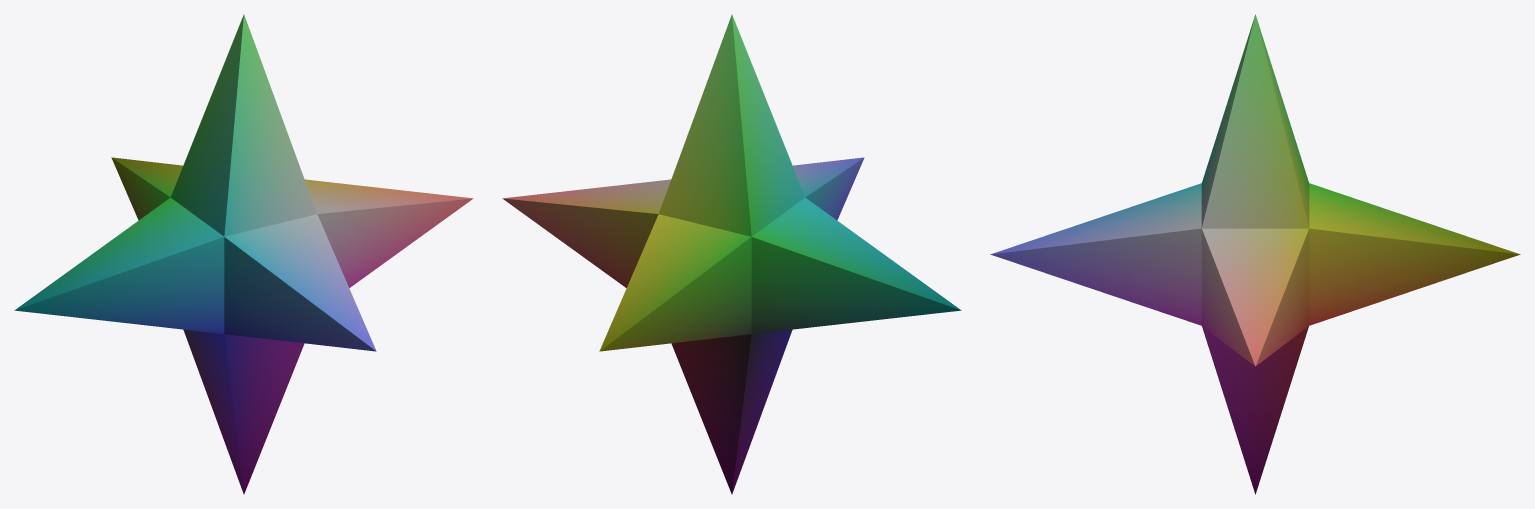
File: zeometry-stars-spikes-six-point-star_v1.glb
The picture shows the model from 3 angles, left to right: view 1: azimuth 30°, elevation 25°; view 2: azimuth 150°, elevation 25°; view 3: azimuth 270°, elevation 25°; orthographic projection.
Parts seen in each view (by area): view 1: Six-Point Star_v1; view 2: Six-Point Star_v1; view 3: Six-Point Star_v1.
Boxes of the visible parts, x1,y1,x2,y2 form: Six-Point Star_v1: [14, 14, 473, 494]; Six-Point Star_v1: [502, 14, 961, 494]; Six-Point Star_v1: [990, 14, 1520, 494].
Size of the model in its own units: 0.5 by 0.5 by 0.5.
